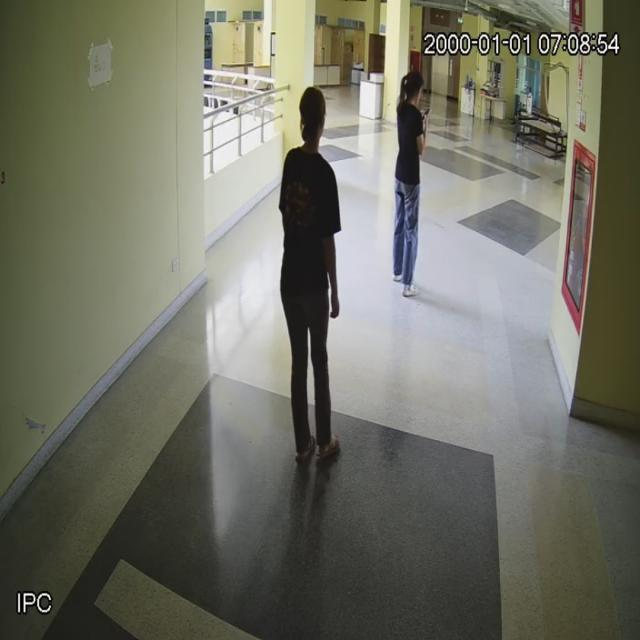normal: (281, 78, 347, 471), (391, 60, 428, 308)
